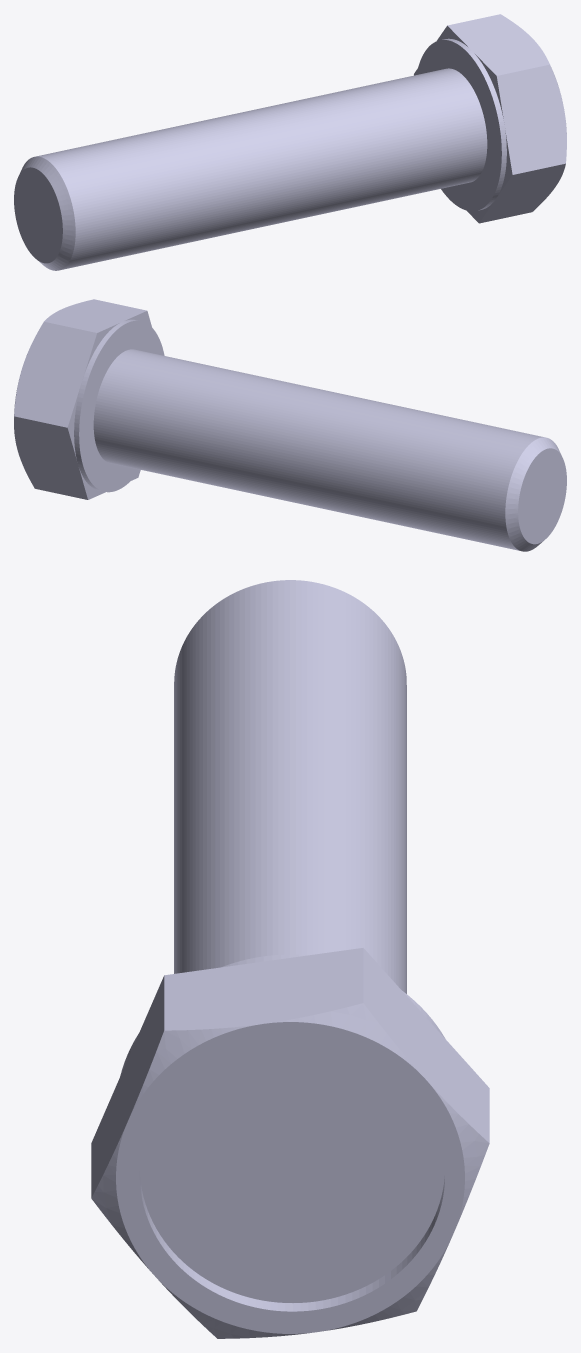
File: formedhexscrew_am_b18_2_3_2mformedhexscrewm12x1_75x5030wn.dae
3 views of the same model, one above another, from view 1: azimuth 30°, elevation 25°; view 2: azimuth 150°, elevation 25°; view 3: azimuth 270°, elevation 25° (orthographic). The views are drawn at different scales.
Visible parts, largest first — view 1: node0; view 2: node0; view 3: node0.
Boxes of the visible parts, box(x1,y1,x2,y2) form: node0: box(14, 14, 566, 270); node0: box(14, 299, 566, 551); node0: box(91, 580, 489, 1338).
Size of the model in its own units: 0.0581 by 0.0205 by 0.0196.
